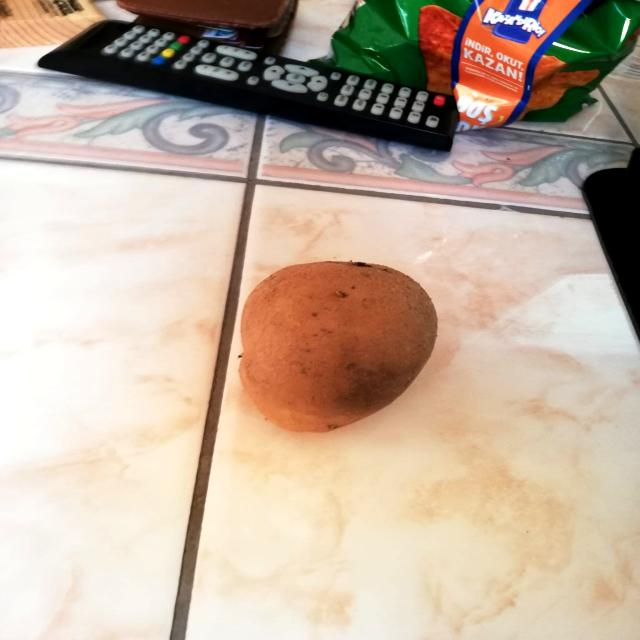potato: (225, 253, 442, 437)
